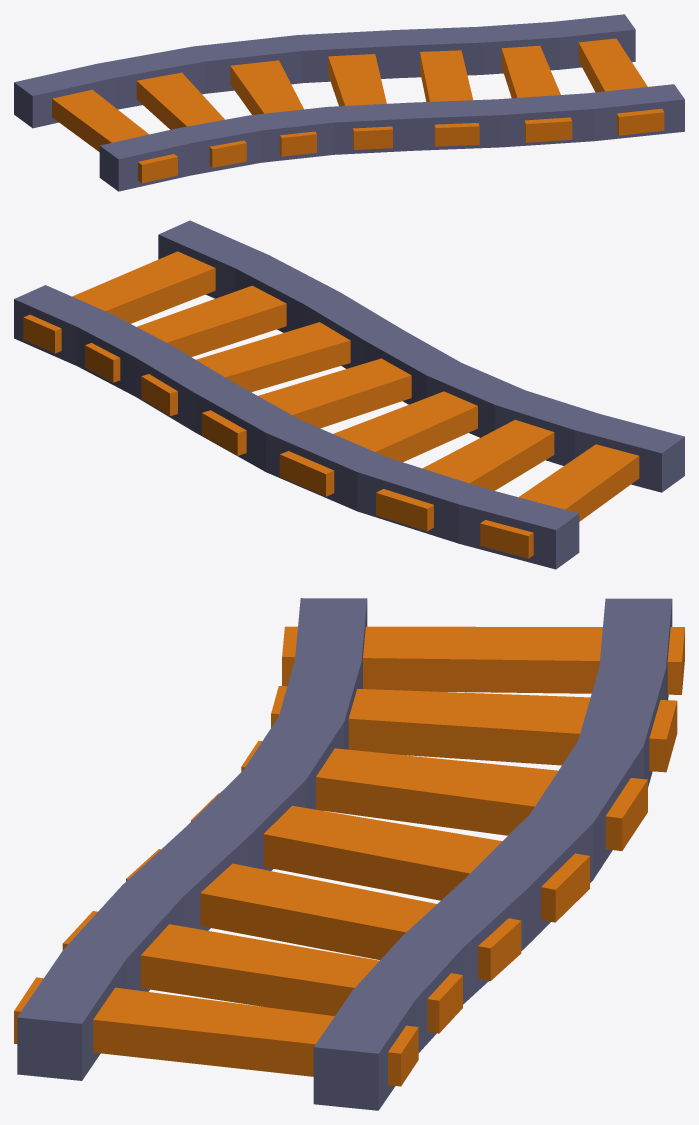
File: Track_Curve2.fbx
3 views of the same model, one above another, from view 1: azimuth 30°, elevation 25°; view 2: azimuth 150°, elevation 25°; view 3: azimuth 270°, elevation 25° (orthographic). The views are drawn at different scales.
Parts seen in each view (by area): view 1: Track_Curve2; view 2: Track_Curve2; view 3: Track_Curve2.
Part boxes in pixels (x1,y1,x2,y2): Track_Curve2: (14,14,684,191); Track_Curve2: (14,220,684,569); Track_Curve2: (14,598,684,1110).
Bounding box in the file's own units: 11.32 × 7.04 × 0.6609.
